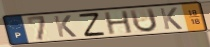7: (26, 14, 48, 42)
H: (103, 9, 135, 36)
K: (52, 14, 78, 38), (158, 7, 184, 31)
U: (128, 7, 160, 34)
Z: (77, 11, 108, 38)
